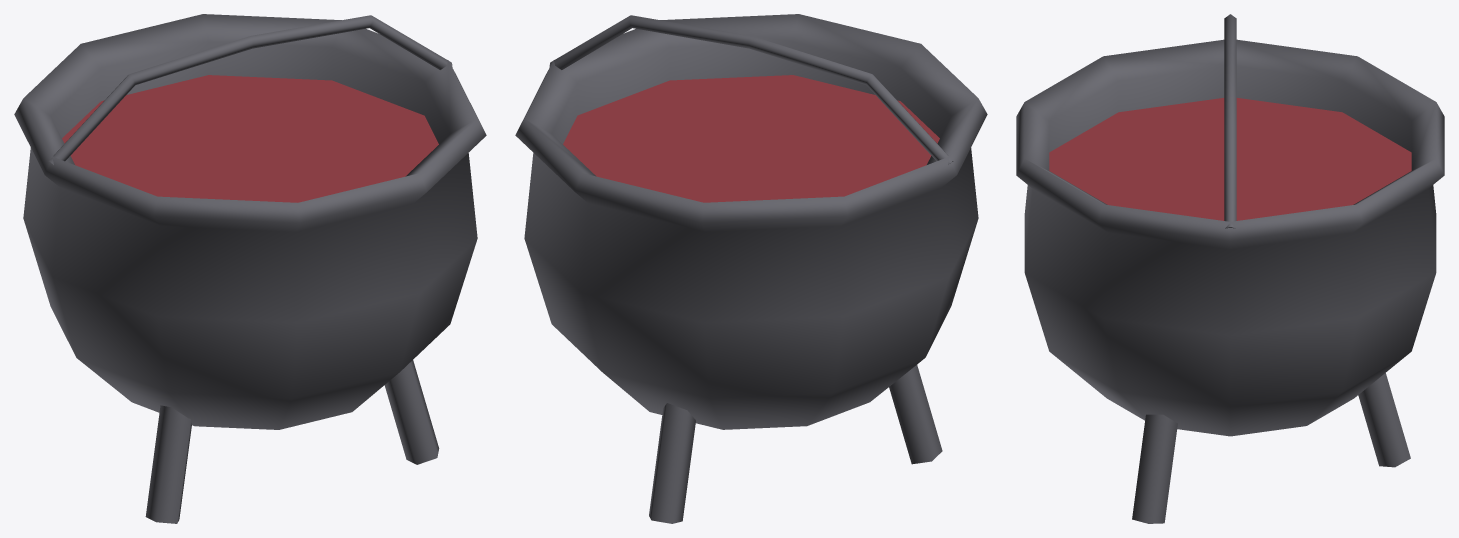
File: Cauldron.fbx
The picture shows the model from 3 angles, left to right: view 1: azimuth 30°, elevation 25°; view 2: azimuth 150°, elevation 25°; view 3: azimuth 270°, elevation 25°; orthographic projection. The views are drawn at different scales.
Parts seen in each view (by area): view 1: Cauldron; view 2: Cauldron; view 3: Cauldron.
Part boxes in pixels (x1,y1,x2,y2): Cauldron: (14, 14, 486, 523); Cauldron: (515, 14, 987, 523); Cauldron: (1016, 14, 1444, 523).
Bounding box in the file's own units: 1.04 × 1.03 × 0.9891.
